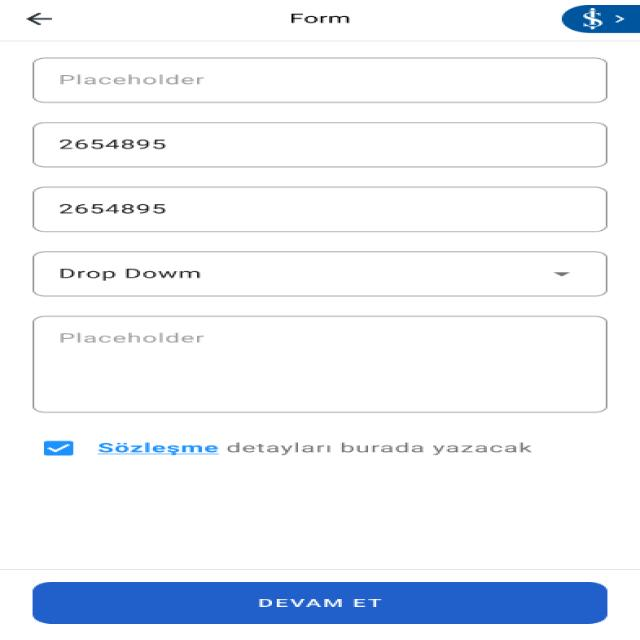QLabel: (224, 440, 541, 456), (255, 597, 387, 609), (98, 442, 220, 454), (288, 12, 353, 24)
VAppBar: (0, 0, 640, 41)
VBtn: (31, 581, 610, 623)
VCheckbox: (38, 439, 79, 457)
VCombobox: (30, 250, 609, 298)
VFooter: (0, 568, 640, 639)
VIcon: (24, 12, 54, 26)
VImg: (560, 4, 636, 34)
VTextField: (30, 56, 609, 104), (32, 185, 608, 233), (34, 121, 607, 169)
VTextarea: (31, 315, 609, 415)
